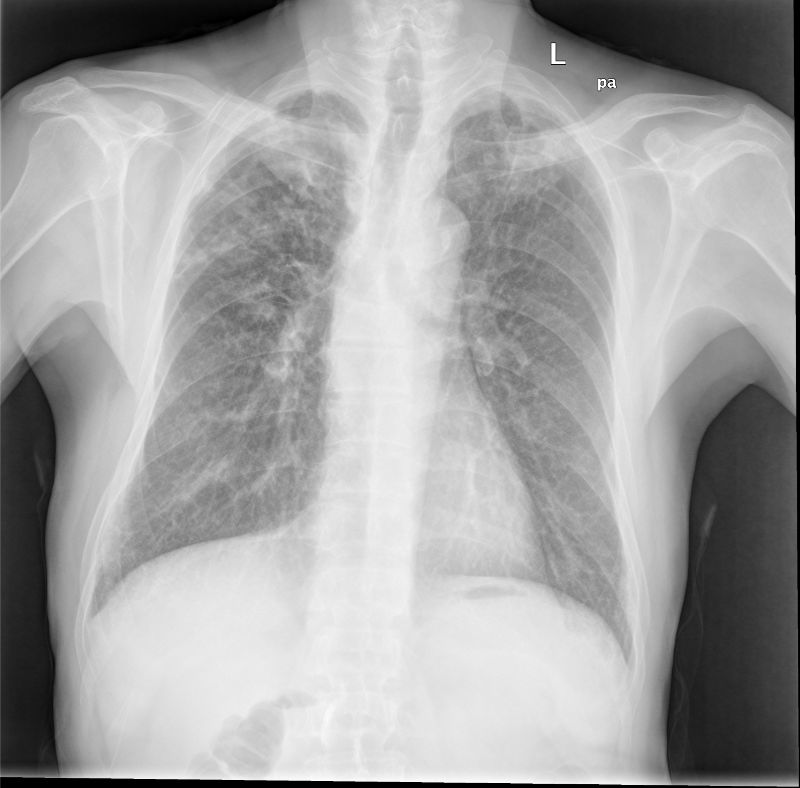Tuberculosis (TB): (189, 162, 316, 271), (488, 117, 571, 219)
